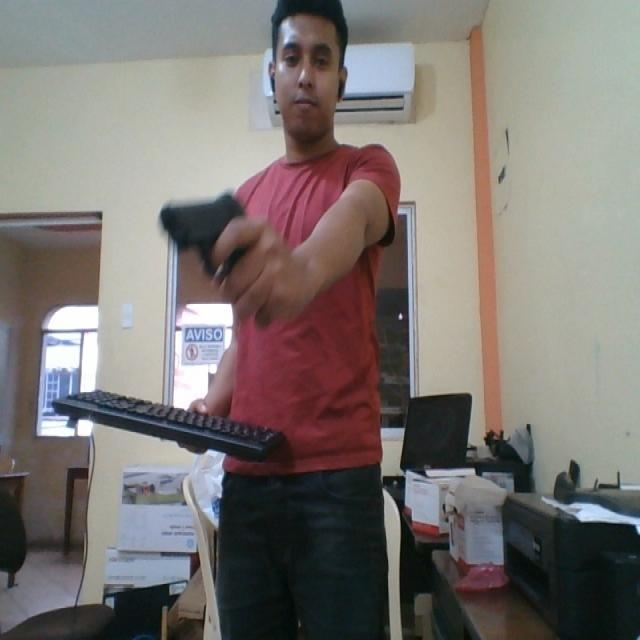weapon: (156, 188, 252, 285)
